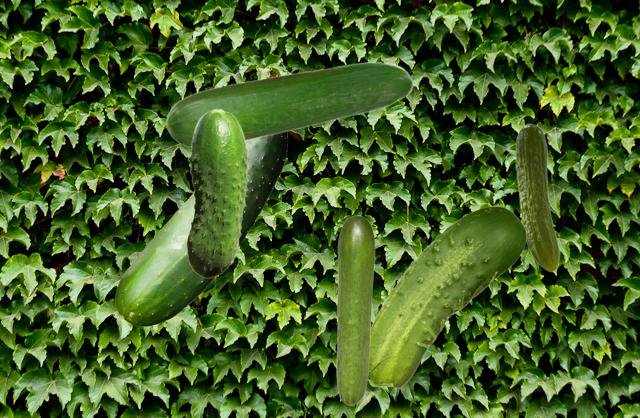cucumber: (115, 133, 286, 325), (368, 206, 525, 387), (165, 61, 412, 147), (186, 108, 248, 277), (336, 215, 374, 405), (515, 123, 559, 271)
